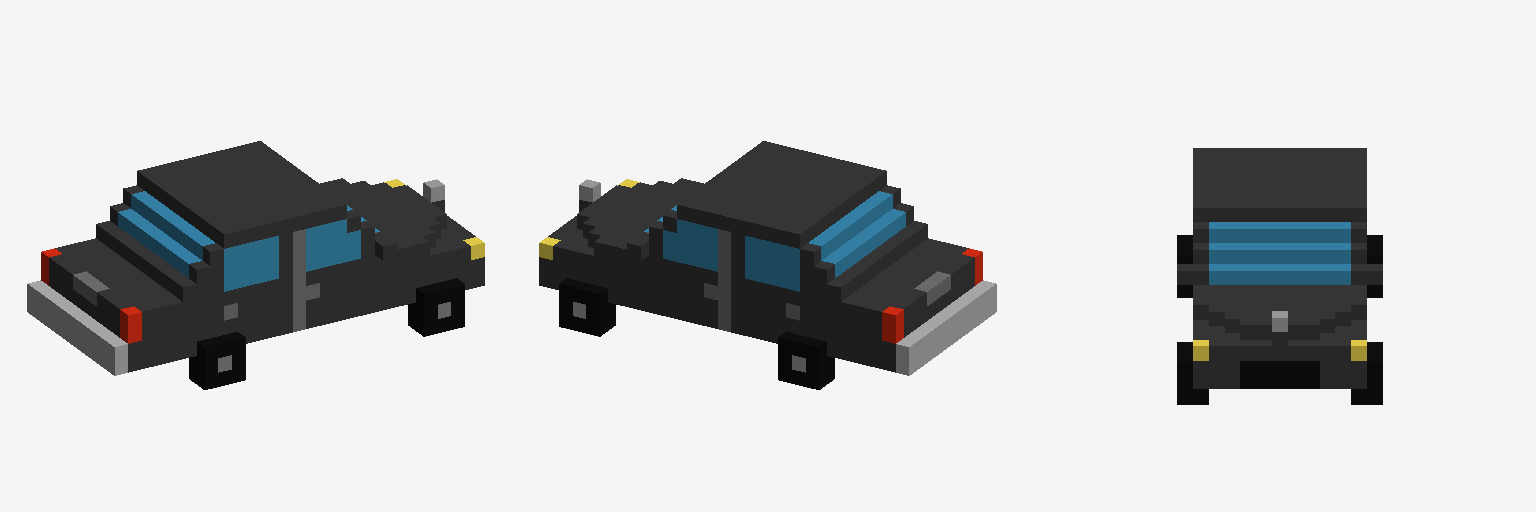
3 views of the same model, side by side, from view 1: azimuth 30°, elevation 25°; view 2: azimuth 150°, elevation 25°; view 3: azimuth 270°, elevation 25° (orthographic).
Visible parts, largest first — view 1: Voiture_05; view 2: Voiture_05; view 3: Voiture_05.
Part boxes in pixels (left/top/right/bottom): Voiture_05: left=27, top=141, right=484, bottom=389; Voiture_05: left=539, top=141, right=996, bottom=389; Voiture_05: left=1177, top=148, right=1382, bottom=404.
Size of the model in its own units: 27 by 10 by 13.
1 materials, 1 textured.